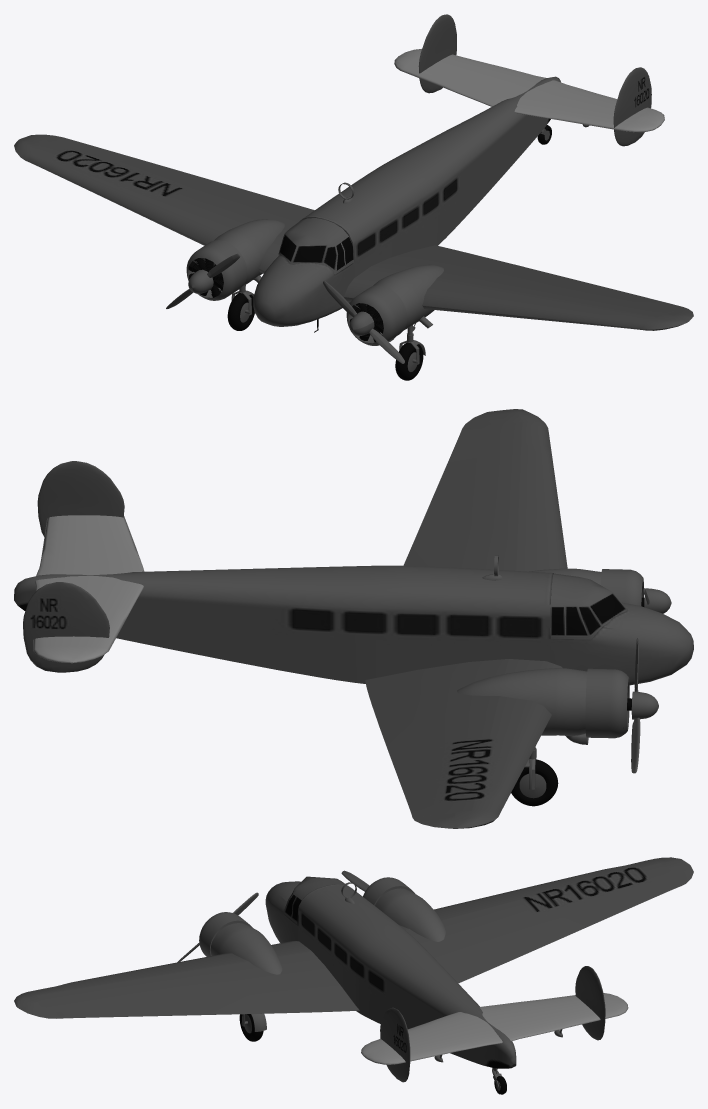
3 views of the same model, one above another, from view 1: azimuth 30°, elevation 25°; view 2: azimuth 150°, elevation 25°; view 3: azimuth 270°, elevation 25° (orthographic). The views are drawn at different scales.
Parts seen in each view (by area): view 1: fus-FACES, wing-FACES, wing_1-FACES, tail-FACES, canopy-FACES, nacc1-FACES, nacc-FACES, fin_1-FACES, cowl-FACES, cowl1-FACES, fin_11-FACES, tyre1-FACES (+1 smaller); view 2: fus-FACES, wing_1-FACES, wing-FACES, tail-FACES, fin_11-FACES, nacc1-FACES, fin_1-FACES, canopy-FACES, cowl1-FACES, cowl-FACES, tyre1-FACES, spinner1-FACES; view 3: fus-FACES, wing-FACES, wing_1-FACES, tail-FACES, nacc1-FACES, nacc-FACES, fin_1-FACES, fin_11-FACES, canopy-FACES, cowl-FACES, cowl1-FACES.
Boxes of the visible parts, x1,y1,x2,y2 form: fus-FACES: (253,76,560,326); wing-FACES: (344,245,693,330); wing_1-FACES: (14,134,314,273); tail-FACES: (394,49,664,132); canopy-FACES: (278,218,353,274); nacc1-FACES: (203,219,284,285); nacc-FACES: (365,264,443,330); fin_1-FACES: (613,67,651,146); cowl-FACES: (346,285,407,345); cowl1-FACES: (186,240,247,300); fin_11-FACES: (418,14,456,93); tyre1-FACES: (227,293,254,330); fus-FACES: (14,565,693,685); wing_1-FACES: (365,659,562,828); wing-FACES: (403,409,567,571); tail-FACES: (33,515,144,663); fin_11-FACES: (23,582,109,672); nacc1-FACES: (457,668,587,735); fin_1-FACES: (37,461,124,536); canopy-FACES: (550,573,627,639); cowl1-FACES: (585,668,629,738); cowl-FACES: (600,569,643,605); tyre1-FACES: (511,759,558,806); spinner1-FACES: (631,691,658,719); fus-FACES: (265,881,516,1068); wing-FACES: (14,941,359,1018); wing_1-FACES: (399,857,693,983); tail-FACES: (361,993,628,1064); nacc1-FACES: (374,888,445,941); nacc-FACES: (210,923,282,974); fin_1-FACES: (380,1007,410,1082); fin_11-FACES: (575,966,605,1040); canopy-FACES: (283,876,347,924); cowl-FACES: (199,912,252,956); cowl1-FACES: (363,877,415,905).
Bounding box in the file's own units: 12.14 × 4.17 × 15.12.
